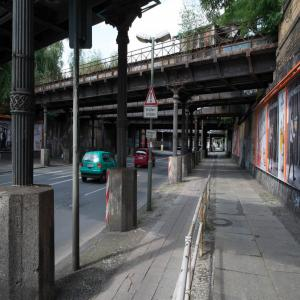Vehicle-registration-plate: (87, 166, 94, 169)
